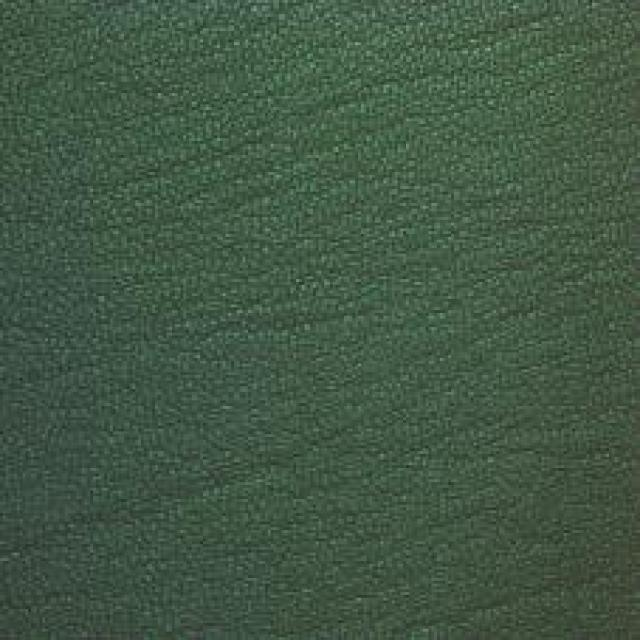Growth Marks: (306, 17, 594, 120), (113, 428, 342, 556), (331, 210, 605, 314)
